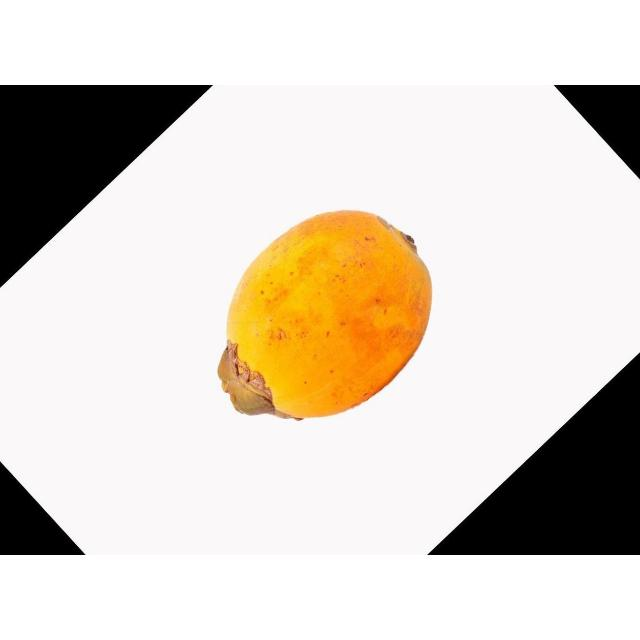good: (217, 211, 433, 422)
